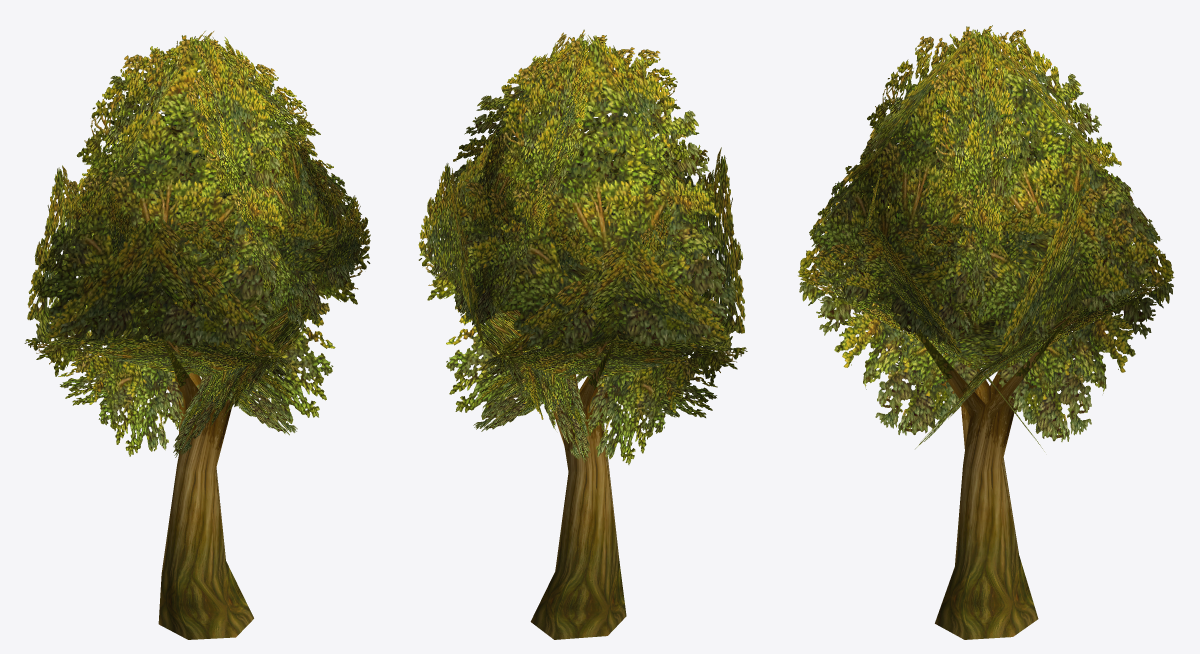
File: elwynntreecanopy04.obj
3 views of the same model, side by side, from view 1: azimuth 30°, elevation 25°; view 2: azimuth 150°, elevation 25°; view 3: azimuth 270°, elevation 25° (orthographic).
Parts seen in each view (by area): view 1: Geoset0, Geoset1; view 2: Geoset0, Geoset1; view 3: Geoset0, Geoset1.
Boxes of the visible parts, bbox=[...] form: Geoset0: bbox=[24, 31, 370, 457]; Geoset1: bbox=[158, 321, 293, 639]; Geoset0: bbox=[418, 29, 747, 464]; Geoset1: bbox=[489, 328, 626, 639]; Geoset0: bbox=[798, 25, 1174, 451]; Geoset1: bbox=[872, 312, 1112, 639].
Bounding box in the file's own units: 52.67 × 82.9 × 50.97.
Materials: 2 (2 with a texture image).
